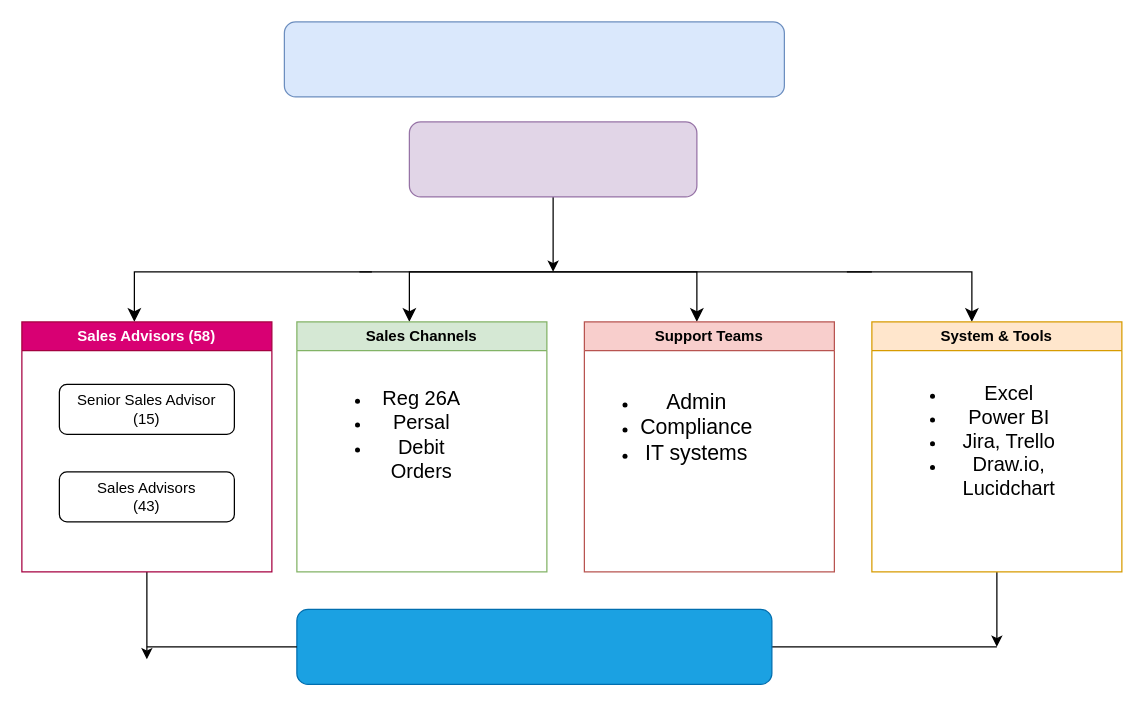
Image size: 1144x706. Some labels were removed from this diagram. Here are the shapes that lost their labels. From the top down, the centre of each, then its label:
At (x=533, y=59): "Sales Ecosystem - Emerald Life".
At (x=552, y=159): "Sales Manager Katlego Queeneth Matlhoko".
At (x=534, y=646): "Goal : Increase Policy Sales & Improve Performance".
